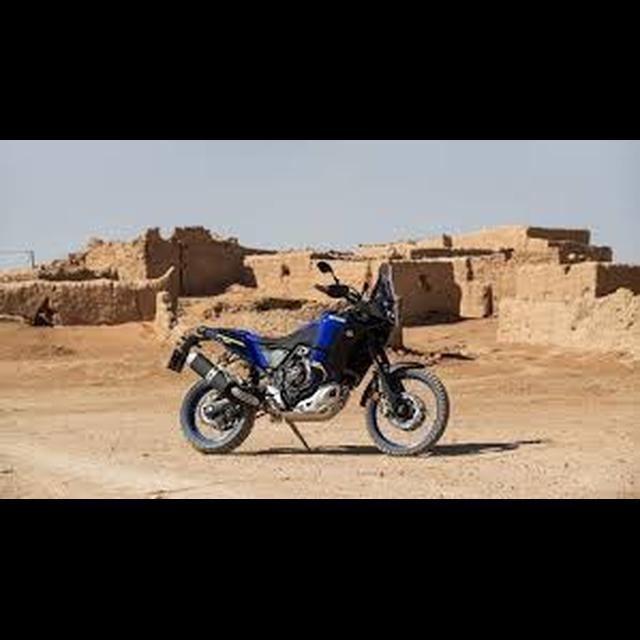motorcycle: (157, 261, 453, 460)
